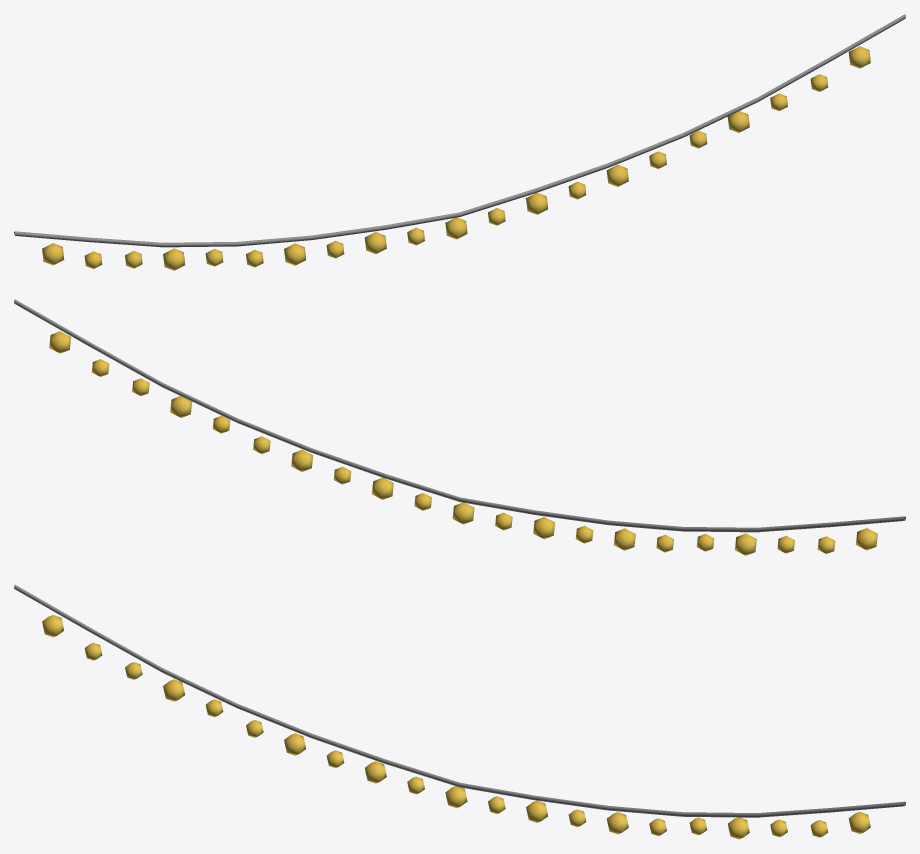
The model's file is pref_sm_city_light02b_snow_lv3.fbx.
The picture shows the model from 3 angles, top to bottom: view 1: azimuth 30°, elevation 25°; view 2: azimuth 150°, elevation 25°; view 3: azimuth 330°, elevation 25°; orthographic projection.
Visible parts, largest first — view 1: pref_sm_city_light02b_snow_lv3; view 2: pref_sm_city_light02b_snow_lv3; view 3: pref_sm_city_light02b_snow_lv3.
Boxes of the visible parts, x1=… form: pref_sm_city_light02b_snow_lv3: x1=14, y1=14, x2=905, y2=270; pref_sm_city_light02b_snow_lv3: x1=14, y1=299, x2=905, y2=555; pref_sm_city_light02b_snow_lv3: x1=14, y1=584, x2=905, y2=839.
Bounding box in the file's own units: 14.71 × 1.83 × 0.3038.
